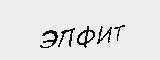И: (95, 21, 113, 47)
П: (57, 25, 75, 51)
Т: (111, 20, 125, 44)
Ф: (75, 23, 96, 51)
Э: (37, 27, 59, 51)
